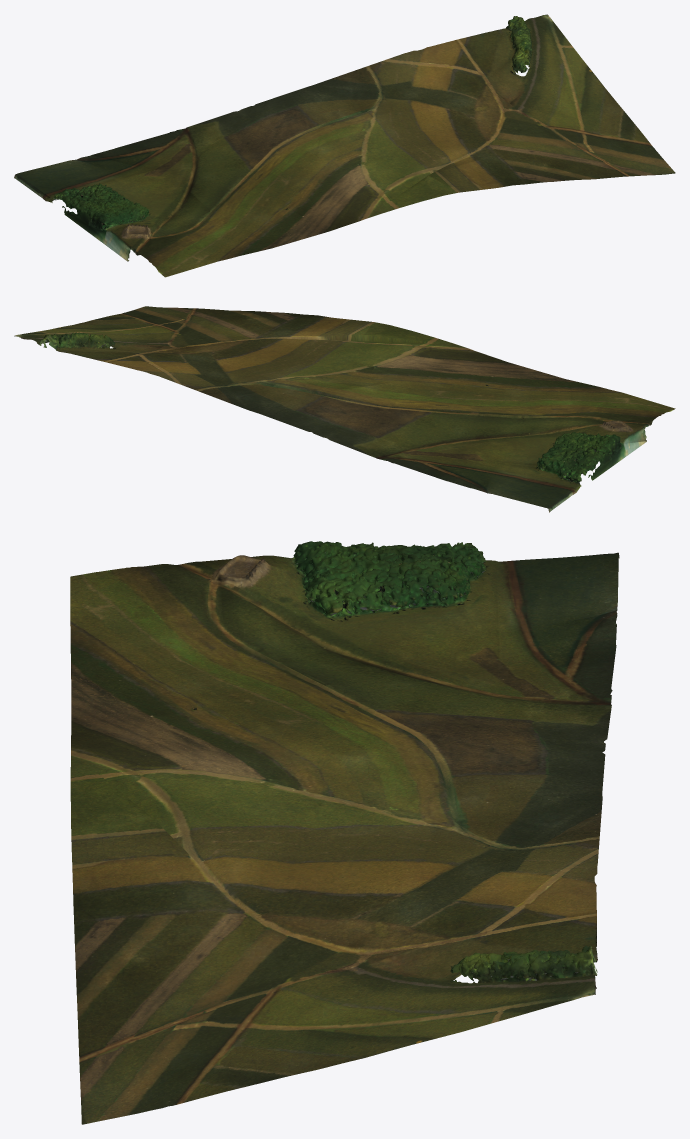
File: Field20plusForrestCollapse.fbx
3 views of the same model, one above another, from view 1: azimuth 30°, elevation 25°; view 2: azimuth 150°, elevation 25°; view 3: azimuth 270°, elevation 25° (orthographic). The views are drawn at different scales.
Parts seen in each view (by area): view 1: pole.001; view 2: pole.001; view 3: pole.001.
Part boxes in pixels (x1,y1,x2,y2): pole.001: (14, 14, 675, 277); pole.001: (14, 306, 675, 512); pole.001: (70, 541, 619, 1124).
Bounding box in the file's own units: 202996 × 26685 × 91459.
